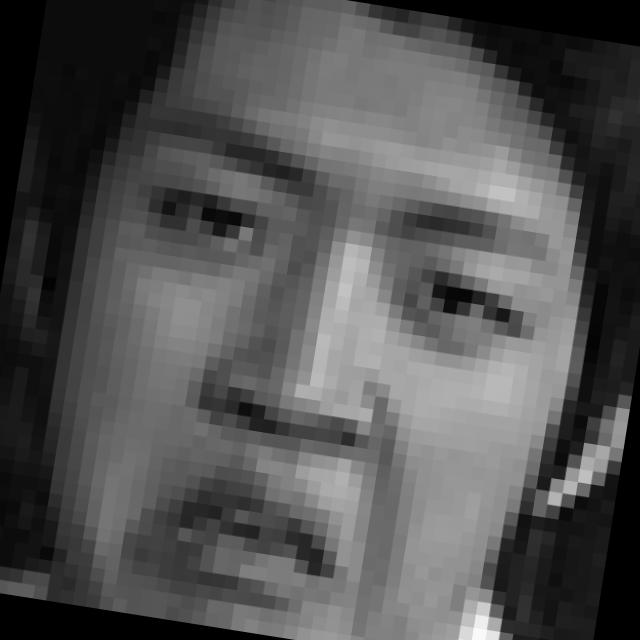disgust: (80, 105, 573, 640)
